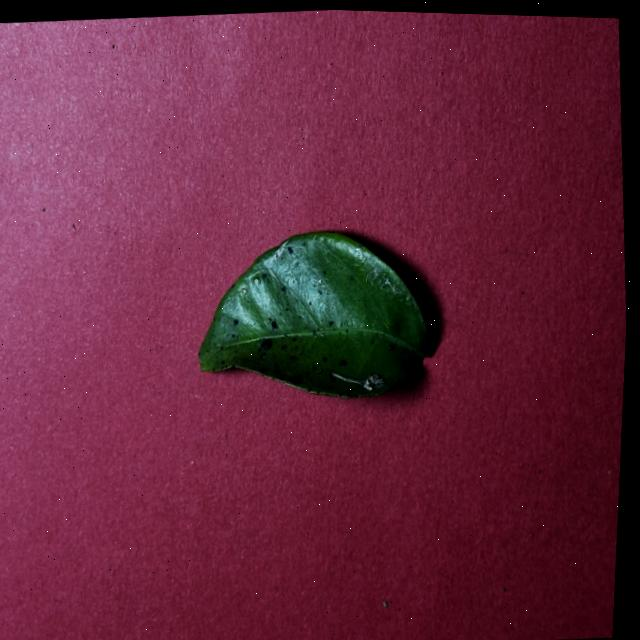sooty_mold: (199, 231, 431, 396)
